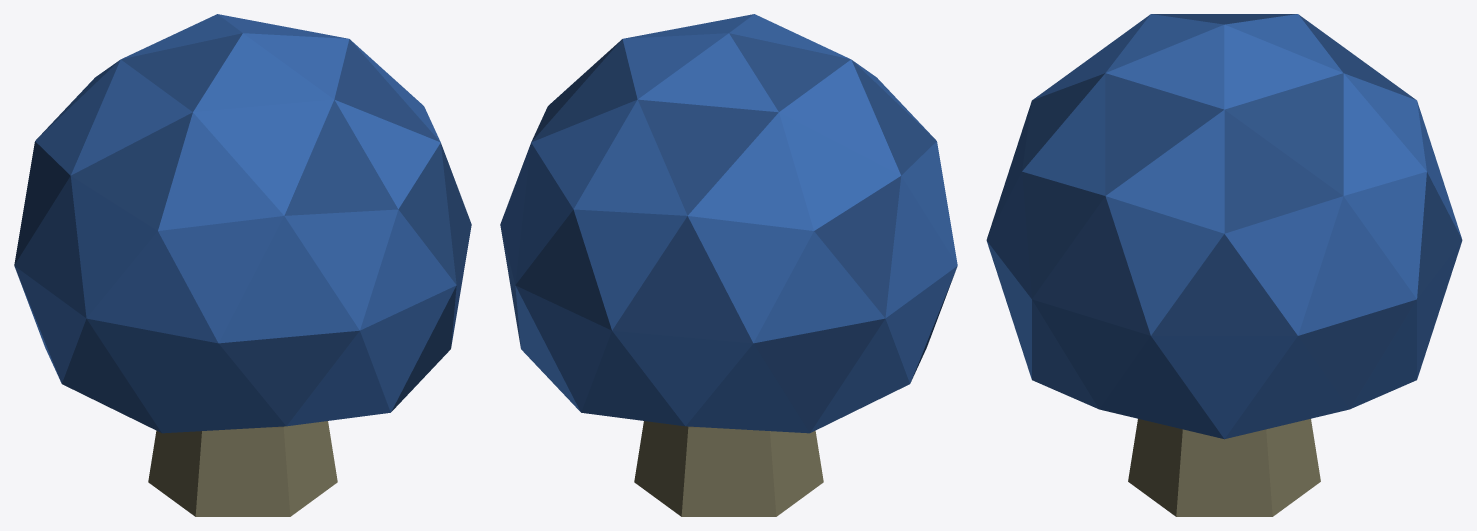
File: Mushroom_1_Blue.fbx
3 views of the same model, side by side, from view 1: azimuth 30°, elevation 25°; view 2: azimuth 150°, elevation 25°; view 3: azimuth 270°, elevation 25° (orthographic).
Parts seen in each view (by area): view 1: Mushroom_1_Blue; view 2: Mushroom_1_Blue; view 3: Mushroom_1_Blue.
Boxes of the visible parts, <box> form: Mushroom_1_Blue: <box>14,14,471,516</box>; Mushroom_1_Blue: <box>500,14,957,516</box>; Mushroom_1_Blue: <box>986,14,1462,516</box>.
Size of the model in its own units: 46.91 by 52.26 by 49.33.
